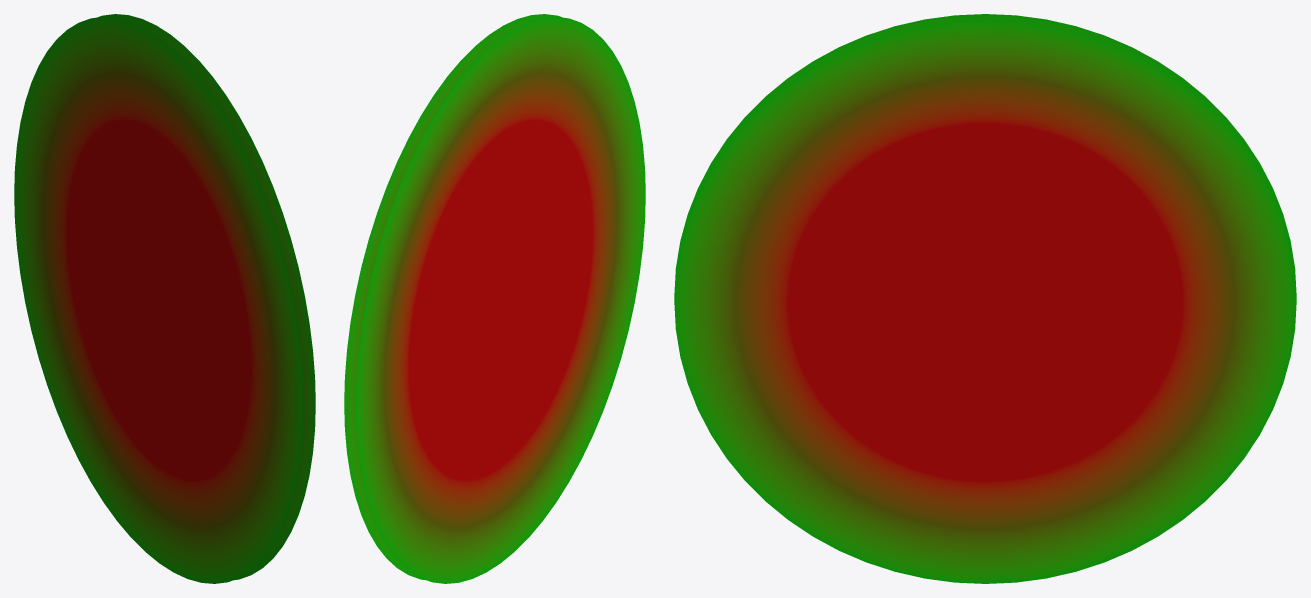
The model's file is SM_WarpMirror_01.FBX.
3 views of the same model, side by side, from view 1: azimuth 30°, elevation 25°; view 2: azimuth 150°, elevation 25°; view 3: azimuth 270°, elevation 25° (orthographic). The views are drawn at different scales.
Visible parts, largest first — view 1: SM_WarpMirror_01; view 2: SM_WarpMirror_01; view 3: SM_WarpMirror_01.
Boxes of the visible parts, x1,y1,x2,y2 form: SM_WarpMirror_01: (14, 14, 315, 583); SM_WarpMirror_01: (344, 14, 645, 583); SM_WarpMirror_01: (674, 14, 1296, 583).
Bounding box in the file's own units: 5 × 200 × 200.
